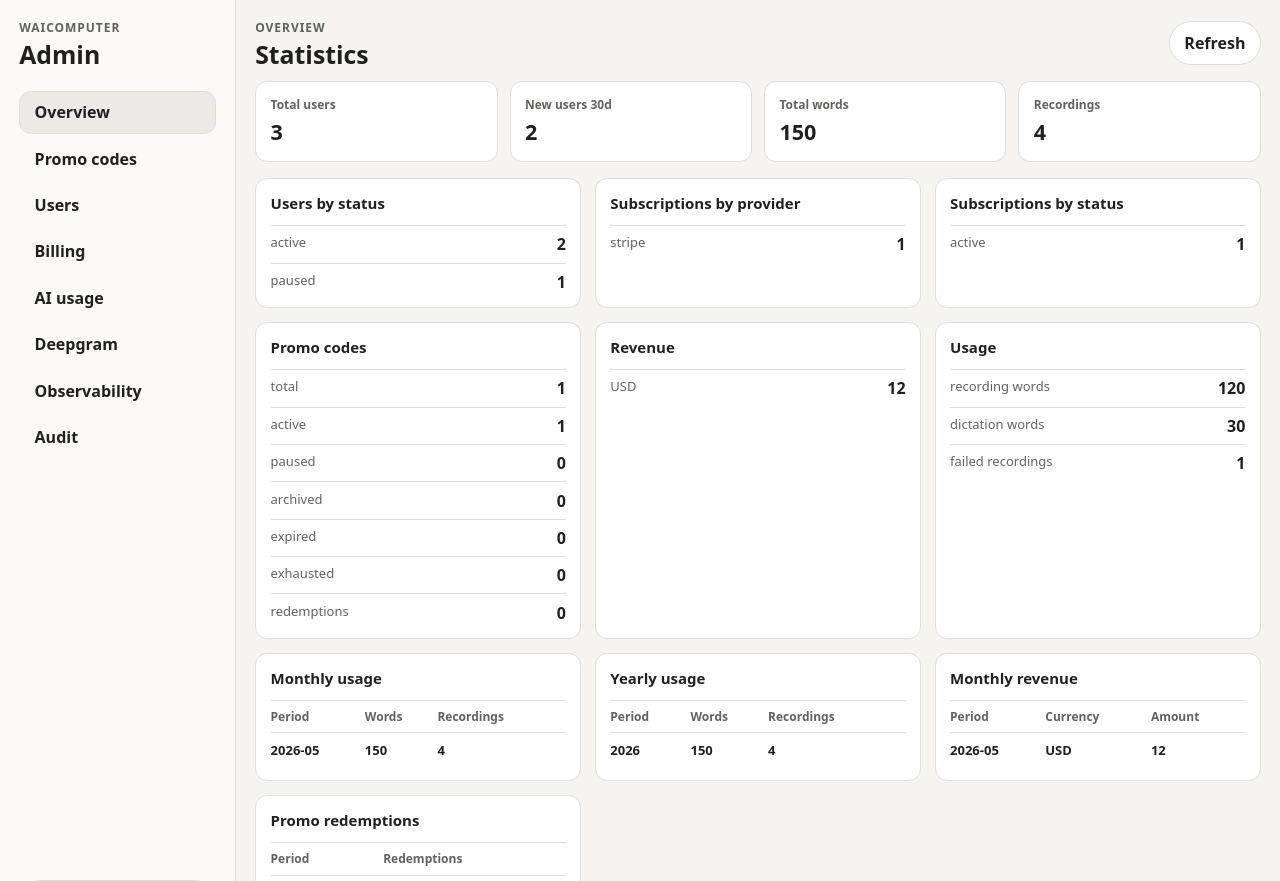
Test: AdminConsoleClient › loads admin statistics and promo codes
This screenshot has width=1280, height=881.
Expected: the text "Total users" is shown, x1=271 y1=96 x2=336 y2=114
Expected: the text "150" is shown, x1=779 y1=118 x2=816 y2=146
Click the button "Promo codes" at (118, 159), box x1=19 y1=137 x2=216 y2=180
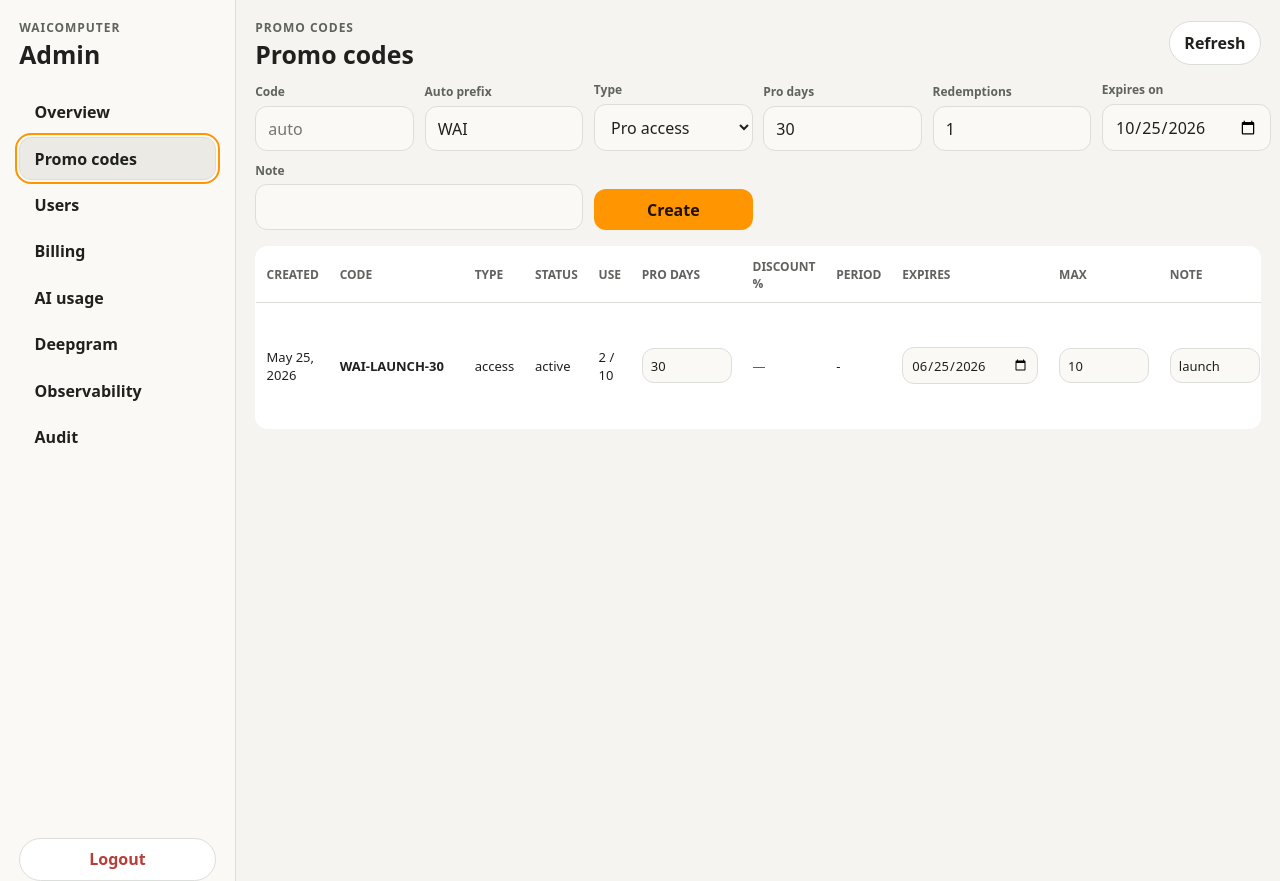
Expected: the field showing "launch" is shown, x1=1170 y1=348 x2=1260 y2=383
Expected: the text "WAI-LAUNCH-30" is shown, x1=329 y1=302 x2=464 y2=428
Expected: the text "2 / 10" is shown, x1=588 y1=302 x2=631 y2=428
